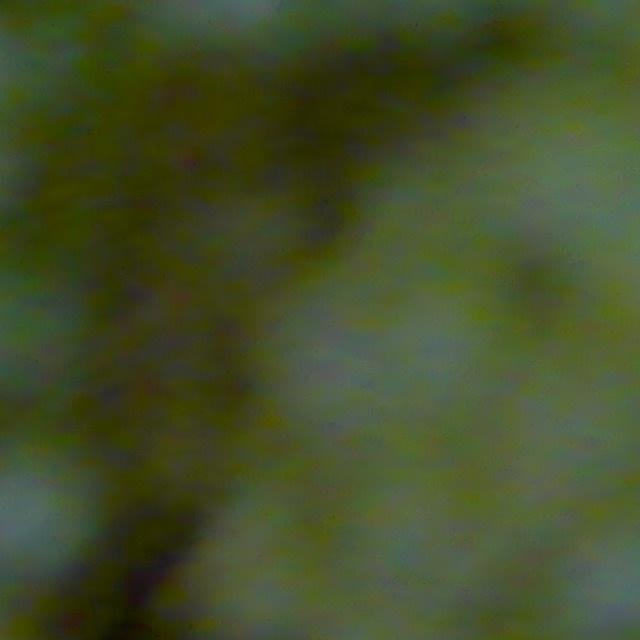SeaGrape: (0, 436, 107, 591)
